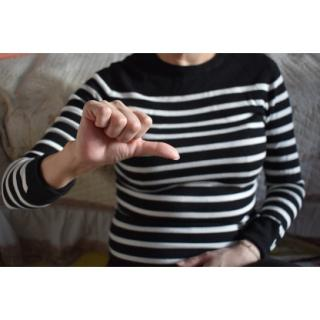DAD: (74, 93, 186, 180)
